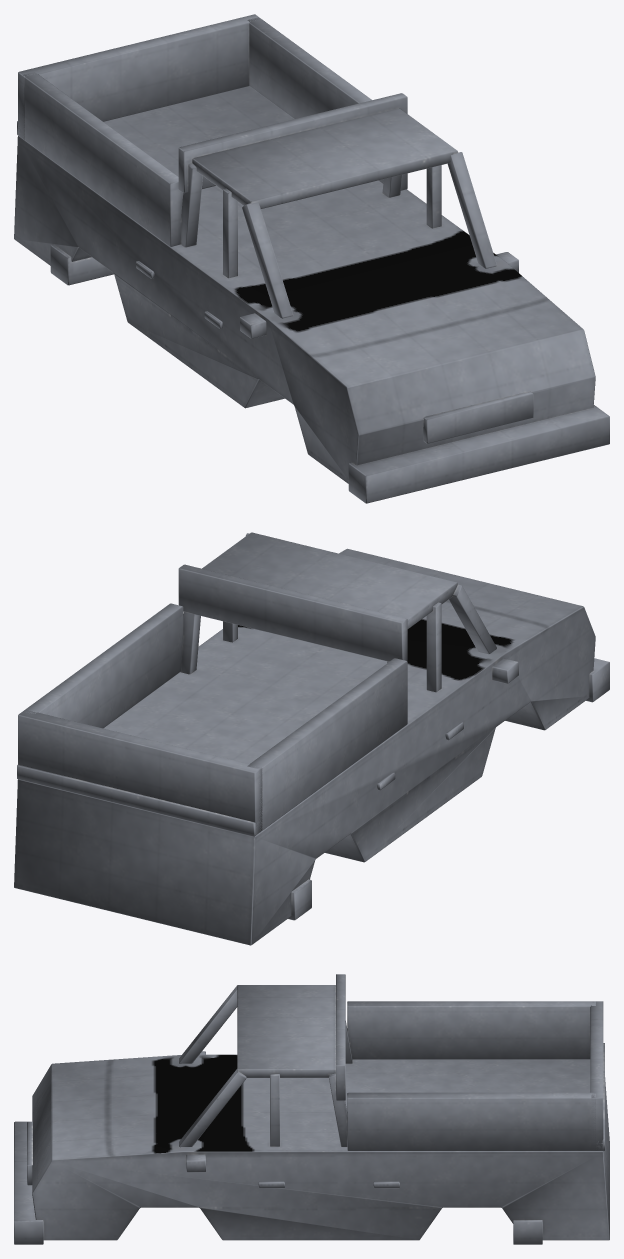
Rendered from Camioneta_Carroceria.fbx.
The picture shows the model from 3 angles, top to bottom: view 1: azimuth 30°, elevation 25°; view 2: azimuth 150°, elevation 25°; view 3: azimuth 270°, elevation 25°; orthographic projection. The views are drawn at different scales.
Visible parts, largest first — view 1: Camioneta_Carroceria; view 2: Camioneta_Carroceria; view 3: Camioneta_Carroceria.
Boxes of the visible parts, x1,y1,x2,y2 form: Camioneta_Carroceria: [14, 14, 609, 503]; Camioneta_Carroceria: [14, 532, 609, 945]; Camioneta_Carroceria: [14, 974, 609, 1244].
Bounding box in the file's own units: 7.9 × 5.9 × 18.15.
